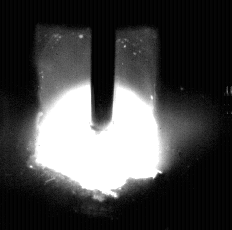arame: (92, 0, 116, 134)
poca: (33, 0, 161, 230)
